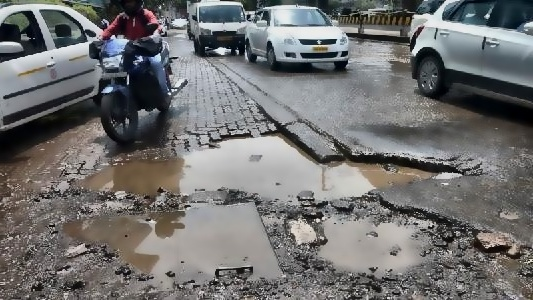pothole: (78, 123, 472, 197), (59, 196, 287, 282), (306, 196, 454, 275)
